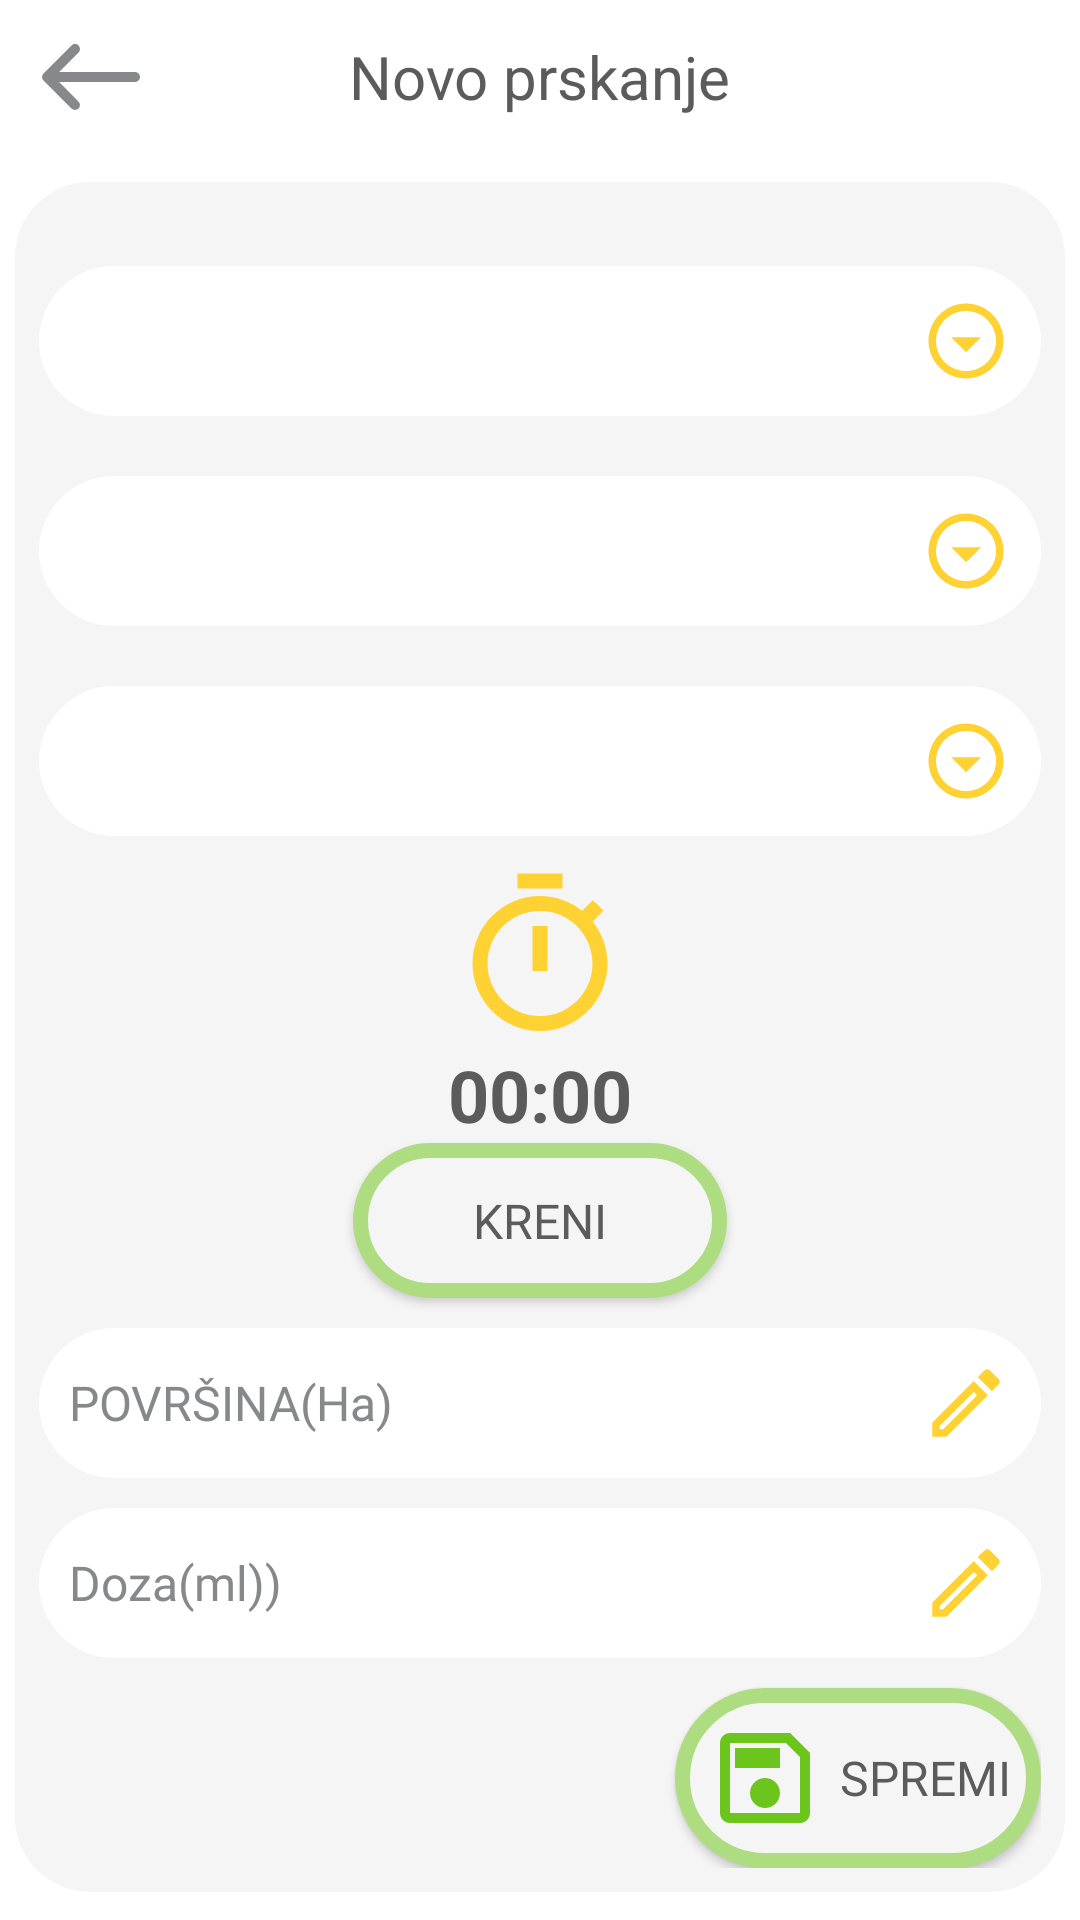

Icons on this 1080 x 1920 Android screen, each with the point to tap as (x,y):
arrow: (91,77)
timer: (540,952)
